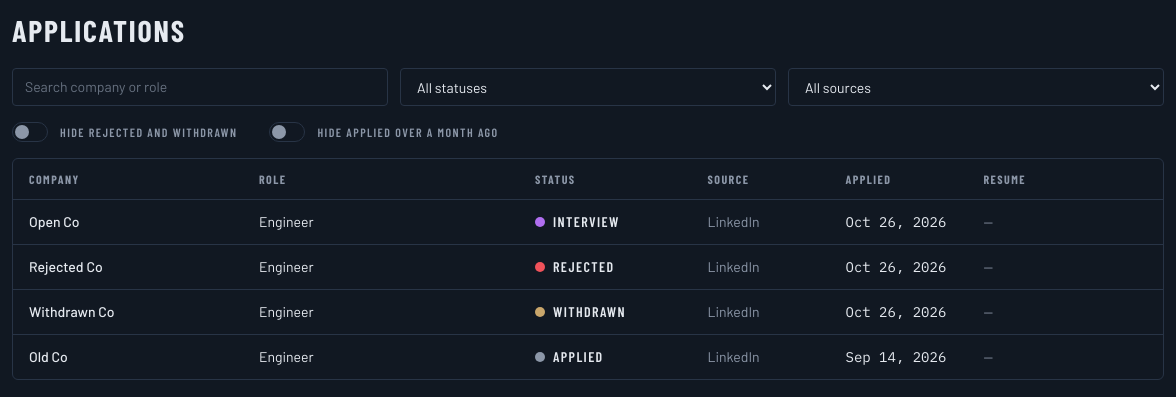
Scenario: ApplicationsPage toggles › hides applications applied more than a month ago
Expected: the link "Old Co" is shown, [29,348,68,365]
Click the switch labelled "Hide applied over a month ago". click: (384, 132)
box: [270,122,499,142]
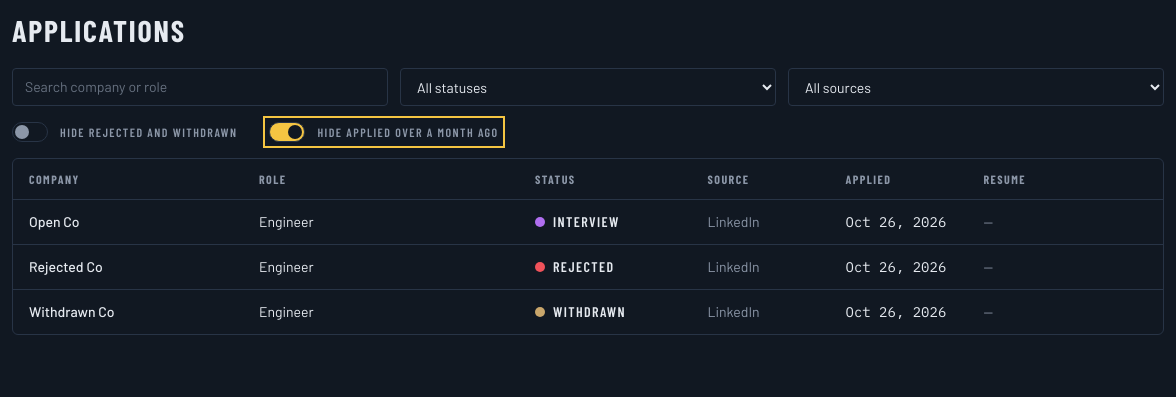
Expected: the link "Open Co" is shown, [29,213,80,230]
Result: the link "Old Co" is gone
